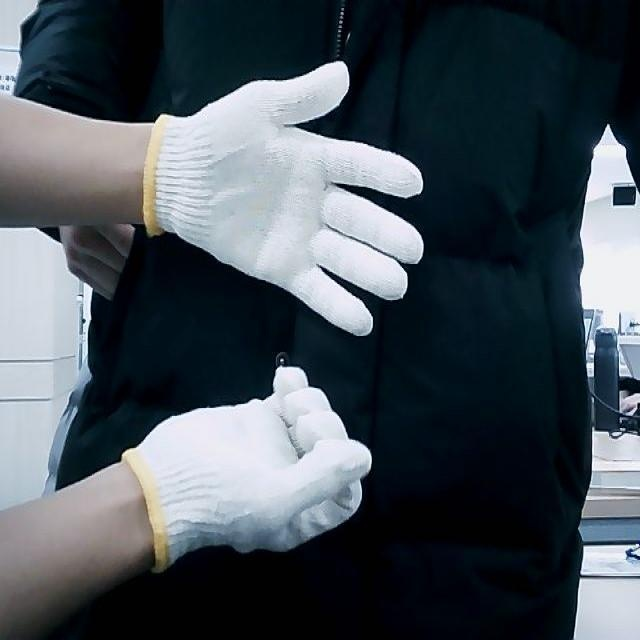Guantes: (138, 58, 426, 335), (125, 364, 372, 573)
